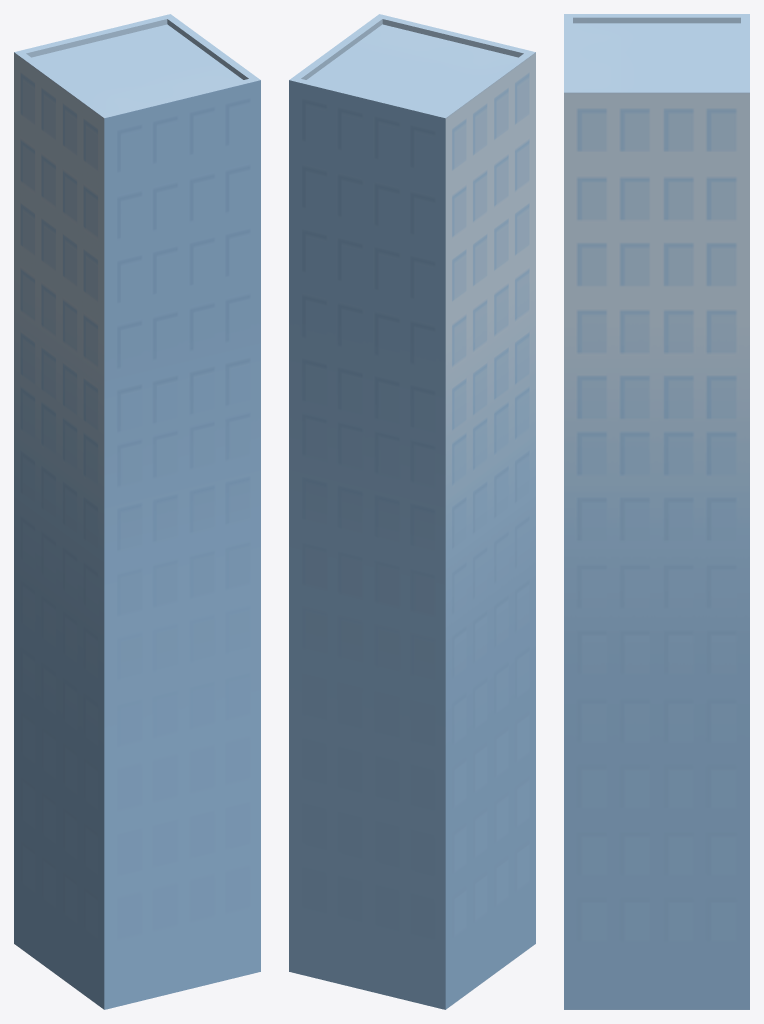
The model's file is bina_gri.fbx.
3 renders of one model, left to right at view 1: azimuth 30°, elevation 25°; view 2: azimuth 150°, elevation 25°; view 3: azimuth 270°, elevation 25°, orthographic. The views are drawn at different scales.
Visible parts, largest first — view 1: bina_gri; view 2: bina_gri; view 3: bina_gri.
Boxes of the visible parts, <box> form: bina_gri: <box>14,14,260,1009</box>; bina_gri: <box>289,14,535,1009</box>; bina_gri: <box>564,14,749,1009</box>.
Bounding box in the file's own units: 2 × 10.89 × 2.
1 material, 1 textured.
